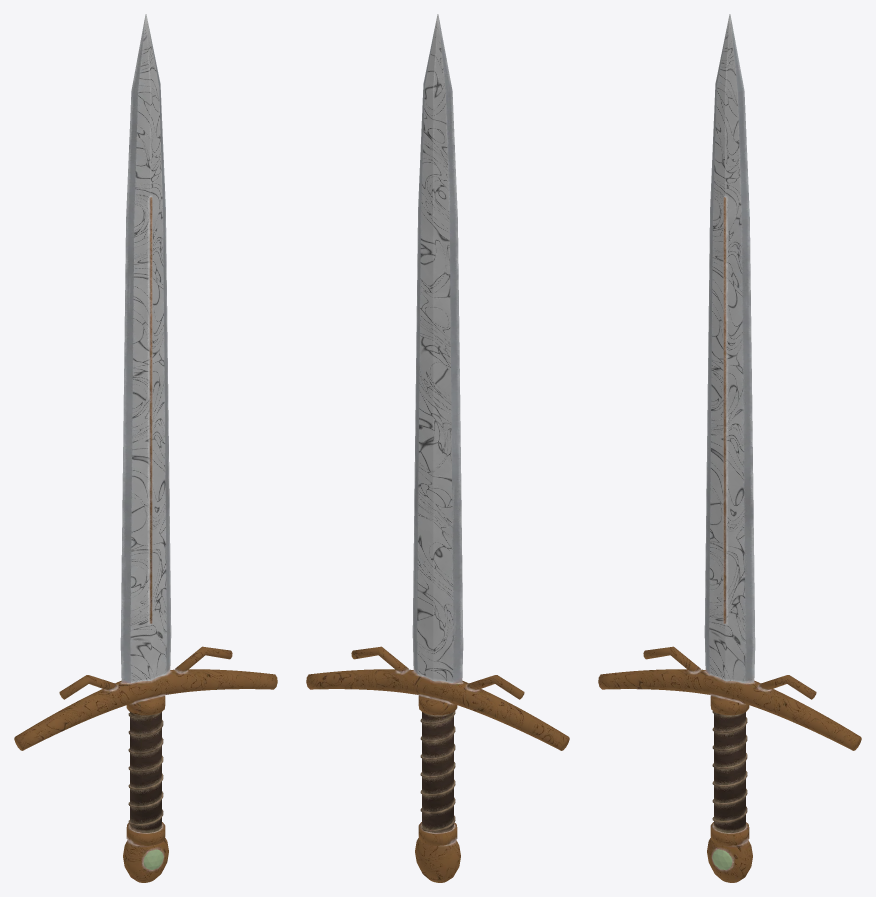
The model's file is eq_sword_5.glb.
3 views of the same model, side by side, from view 1: azimuth 30°, elevation 25°; view 2: azimuth 150°, elevation 25°; view 3: azimuth 330°, elevation 25° (orthographic).
Visible parts, largest first — view 1: eq_sword_5; view 2: eq_sword_5; view 3: eq_sword_5.
Part boxes in pixels (<box>): eq_sword_5: <box>14,14,277,882</box>; eq_sword_5: <box>306,14,569,882</box>; eq_sword_5: <box>598,14,861,882</box>.
Bounding box in the file's own units: 0.4469 × 1.43 × 0.059.
Materials: 1 (1 with a texture image).
